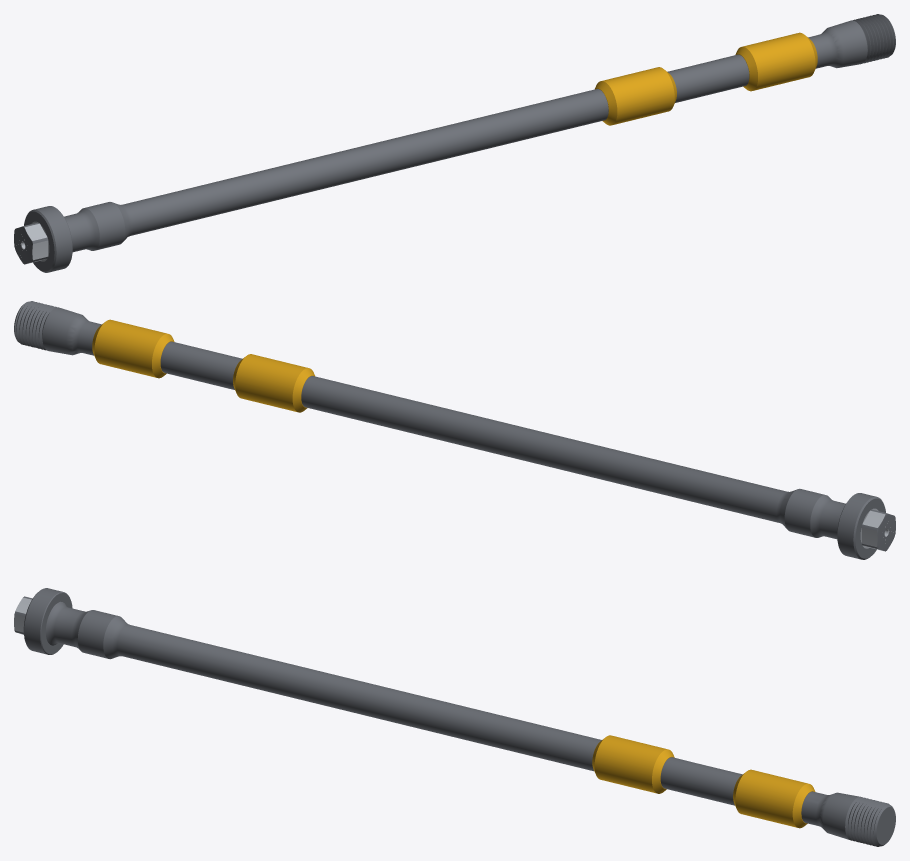
Rendered from saplama-mtb-210-05.glb.
The picture shows the model from 3 angles, top to bottom: view 1: azimuth 30°, elevation 25°; view 2: azimuth 150°, elevation 25°; view 3: azimuth 330°, elevation 25°; orthographic projection.
Parts seen in each view (by area): view 1: body (×2); view 2: body (×2); view 3: body (×2).
Part boxes in pixels (x1,y1,x2,y2): body (×2): (14,14,895,272); body (×2): (14,301,895,559); body (×2): (14,588,895,846).
Size of the model in its own units: 1.35 by 0.088 by 0.088.
